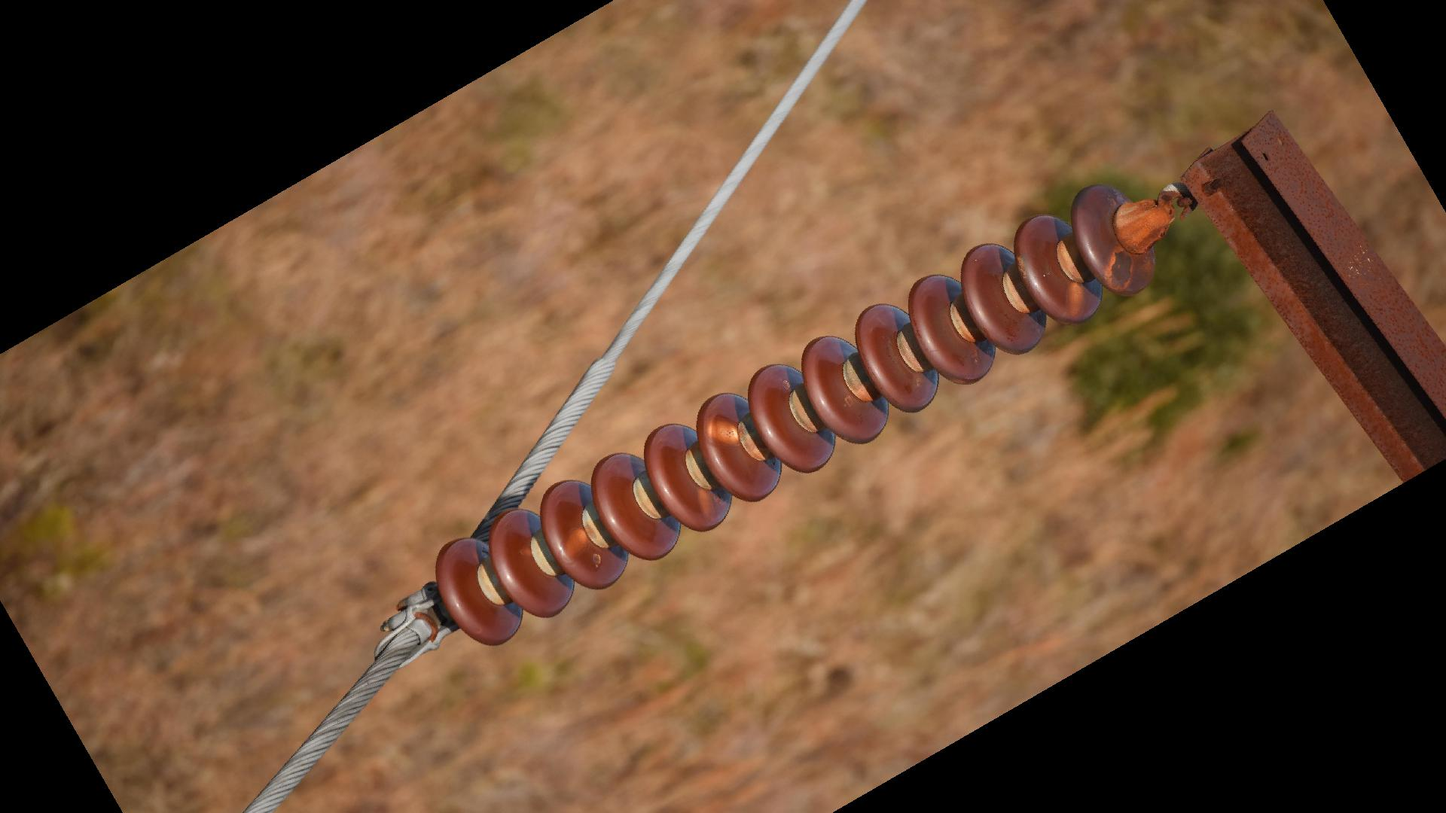insulator: (428, 178, 1155, 647)
insulator_flashover: (1104, 248, 1136, 294), (559, 525, 590, 560), (705, 417, 741, 447), (1061, 280, 1087, 320)
